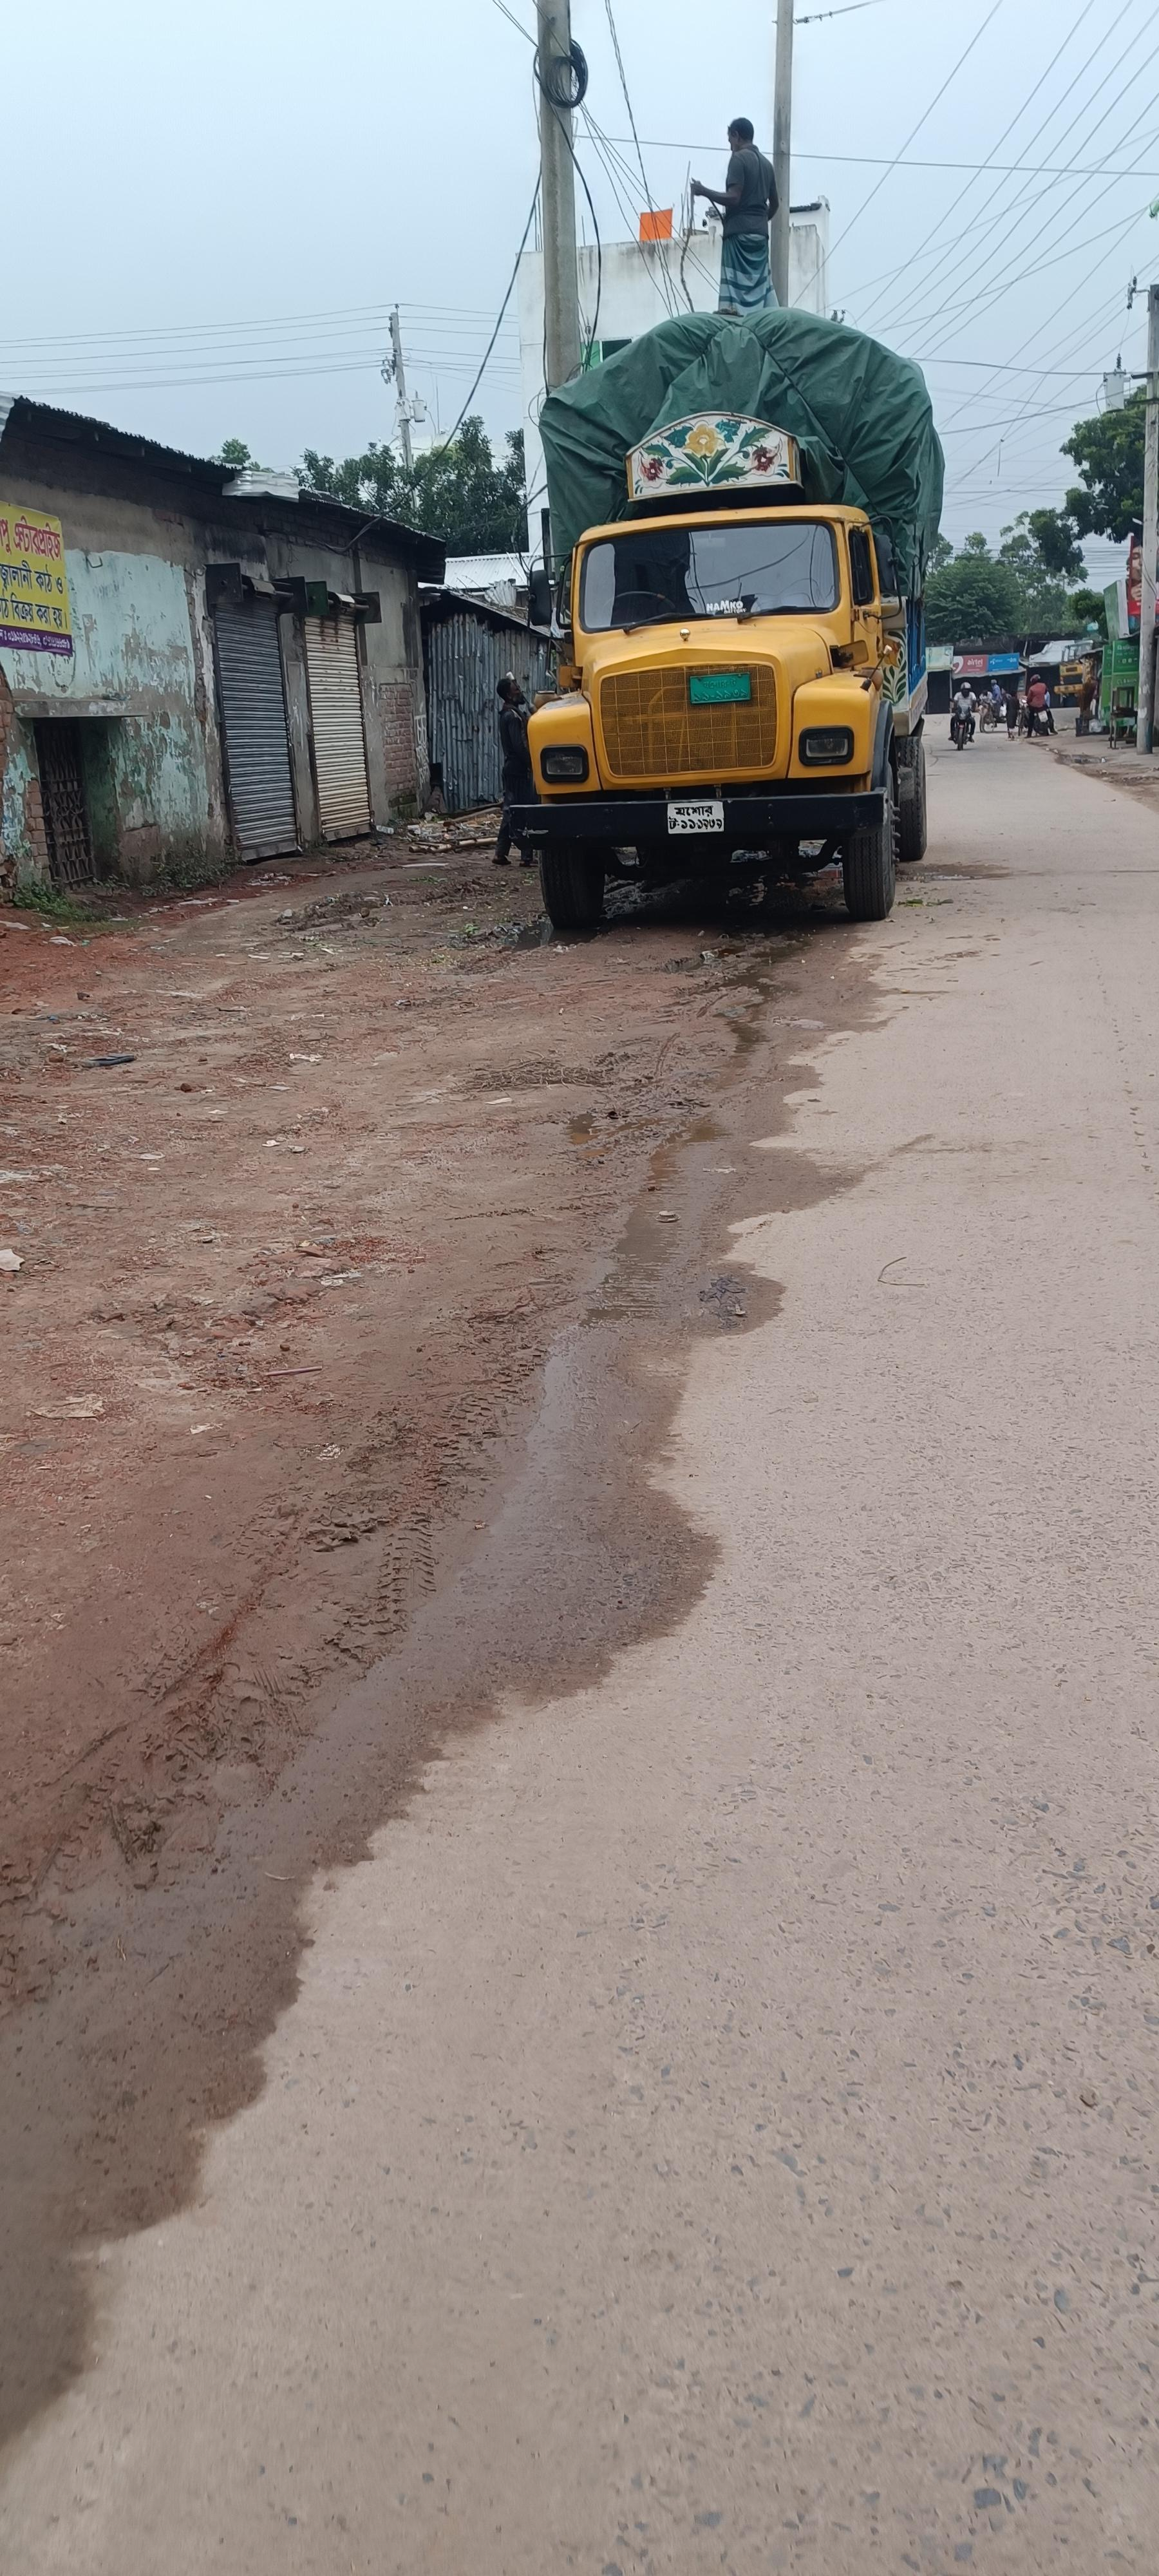Fallen-tree: (951, 698, 978, 749)
Garbage-bin: (689, 117, 780, 314), (491, 675, 538, 867)
Traffic-cone: (451, 329, 998, 1004)
